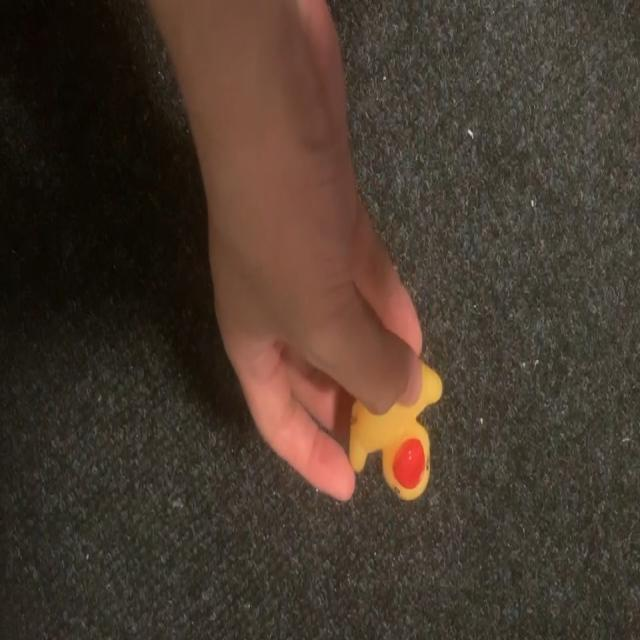rubber-duck: (348, 362, 441, 498)
